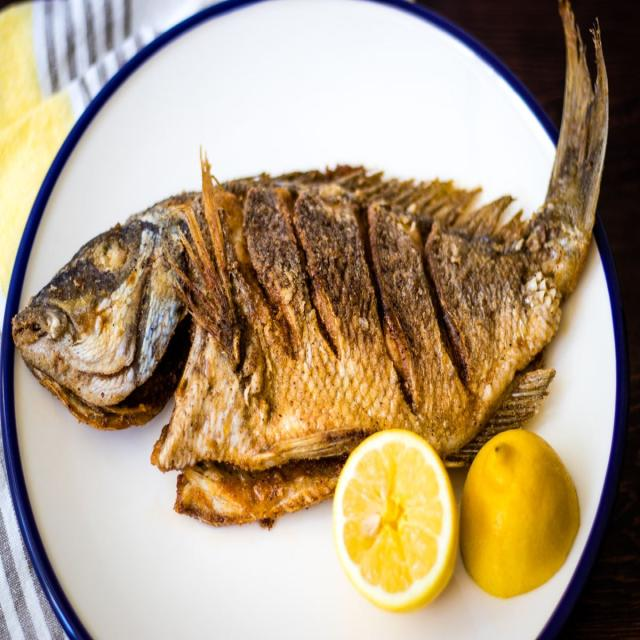Peixe: (11, 2, 610, 529)
